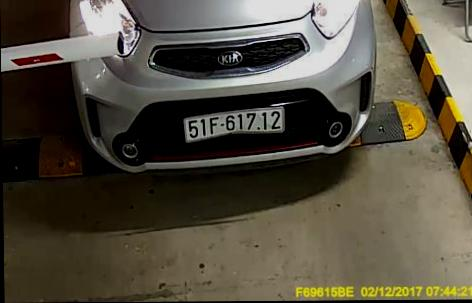License_Plate: (181, 104, 285, 143)
